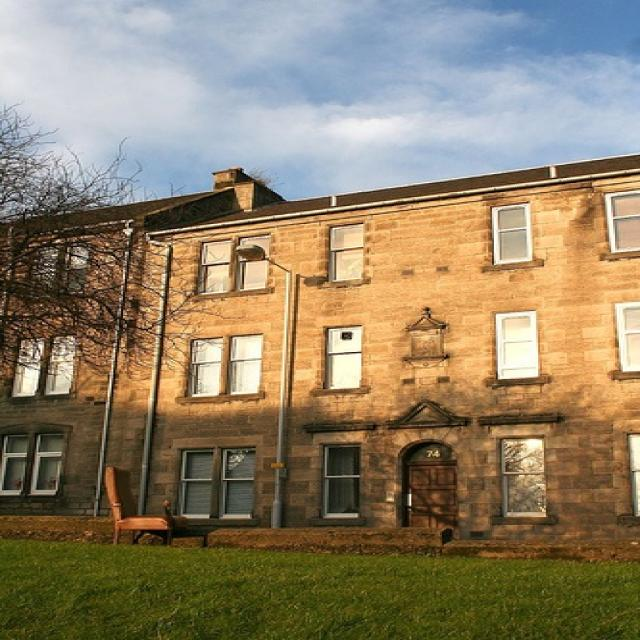chair: (102, 466, 190, 548)
